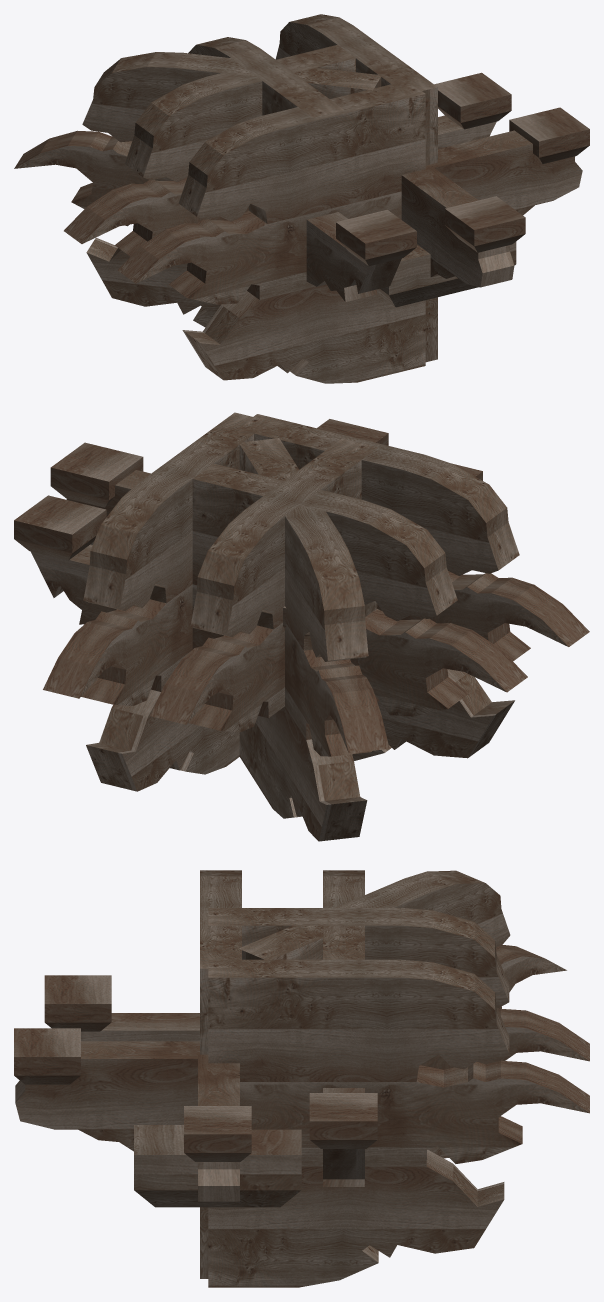
Rendered from SM_Sun_Won_Gonpo_B.fbx.
3 renders of one model, top to bottom at view 1: azimuth 30°, elevation 25°; view 2: azimuth 150°, elevation 25°; view 3: azimuth 270°, elevation 25°, orthographic. The views are drawn at different scales.
Visible parts, largest first — view 1: SM_Sun_Won_Gonpo_B; view 2: SM_Sun_Won_Gonpo_B; view 3: SM_Sun_Won_Gonpo_B.
Part boxes in pixels (box(x1,y1,x2,y2)): SM_Sun_Won_Gonpo_B: box(14, 14, 589, 383); SM_Sun_Won_Gonpo_B: box(14, 412, 589, 841); SM_Sun_Won_Gonpo_B: box(14, 870, 589, 1287).
Bounding box in the file's own units: 140 × 81.68 × 137.
